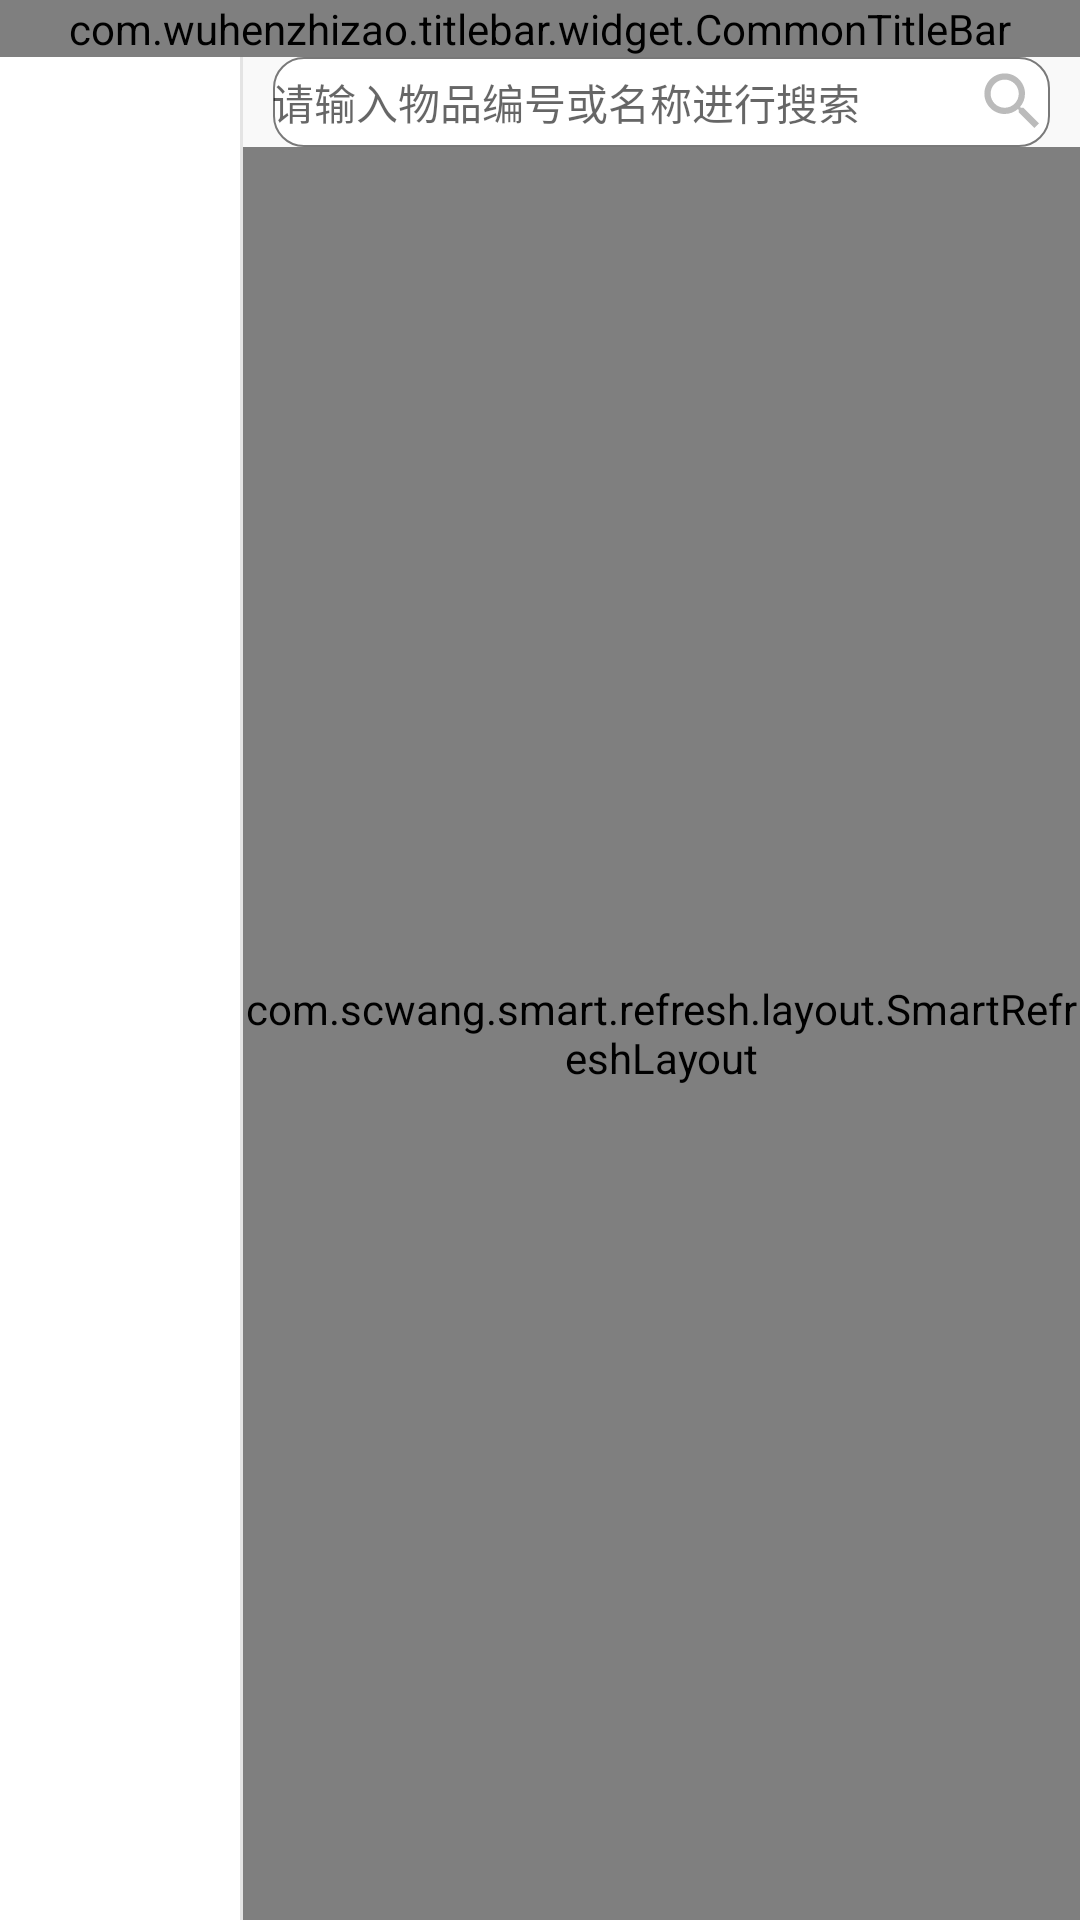

Named icons in this screenshot (1080×1920) and their centers, point (x, y):
search: point (1011, 100)
